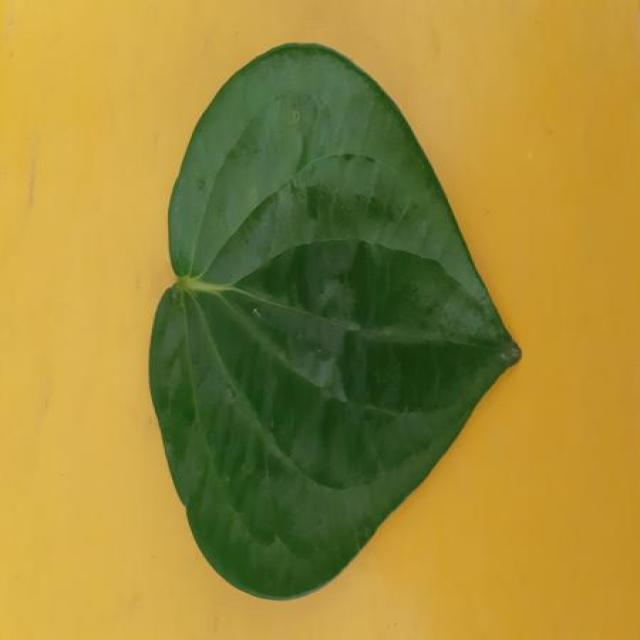betel: (150, 44, 520, 598)
